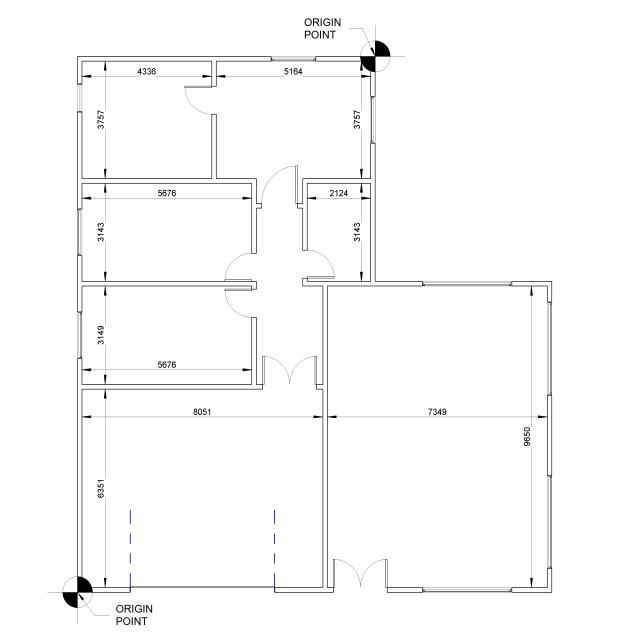Column: (360, 56, 376, 62), (82, 587, 93, 593), (78, 577, 82, 593), (370, 62, 376, 72)
Door: (256, 165, 303, 209), (302, 250, 334, 282), (224, 253, 257, 282), (224, 289, 257, 318), (184, 86, 217, 114)
Double-Door: (333, 559, 388, 593), (262, 356, 317, 389)
Window: (130, 586, 275, 593), (422, 587, 512, 593), (547, 475, 552, 569), (547, 302, 552, 396), (422, 281, 512, 286), (370, 96, 376, 144), (271, 56, 316, 62), (77, 312, 82, 359), (78, 209, 82, 256), (77, 84, 82, 112)
